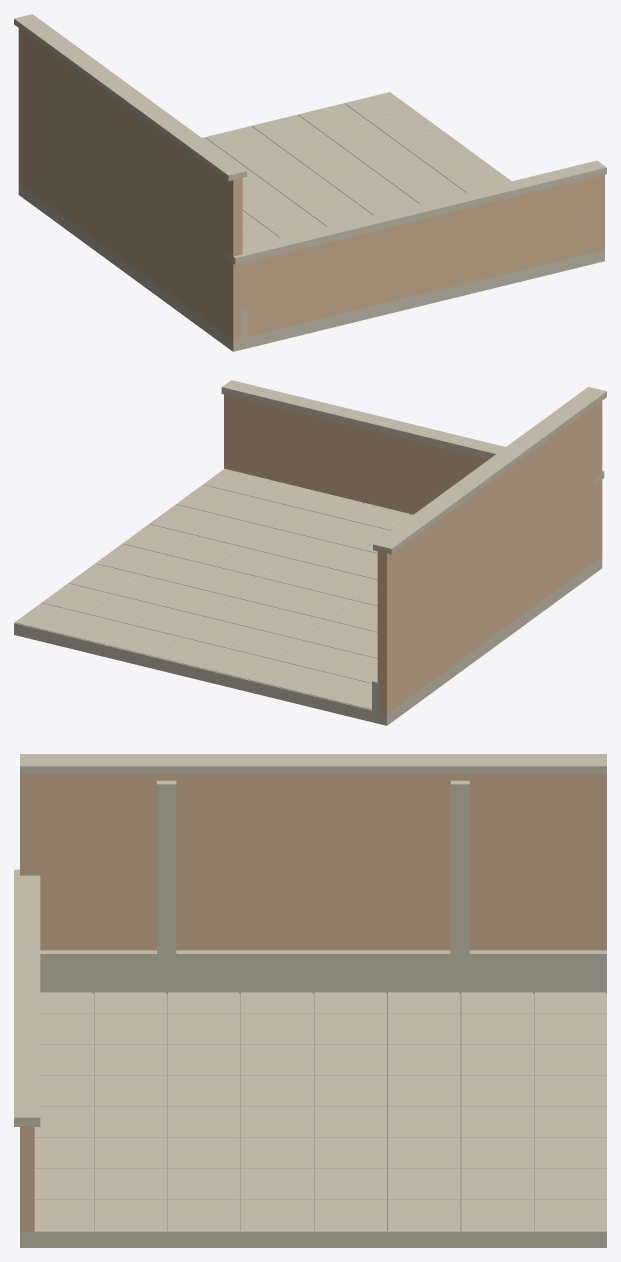
The model's file is district-0-2-0.glb.
The picture shows the model from 3 angles, top to bottom: view 1: azimuth 30°, elevation 25°; view 2: azimuth 150°, elevation 25°; view 3: azimuth 270°, elevation 25°; orthographic projection. The views are drawn at different scales.
Visible parts, largest first — view 1: plaster.005, stone.006; view 2: stone.006, plaster.005; view 3: stone.006, plaster.005.
Part boxes in pixels (x1,y1,x2,y2): plaster.005: (18, 28, 604, 340); stone.006: (14, 14, 606, 351); stone.006: (14, 380, 606, 725); plaster.005: (224, 394, 602, 713); stone.006: (14, 754, 606, 1247); plaster.005: (20, 774, 606, 1231).
Size of the model in its own units: 8.1 by 3.65 by 8.08.
